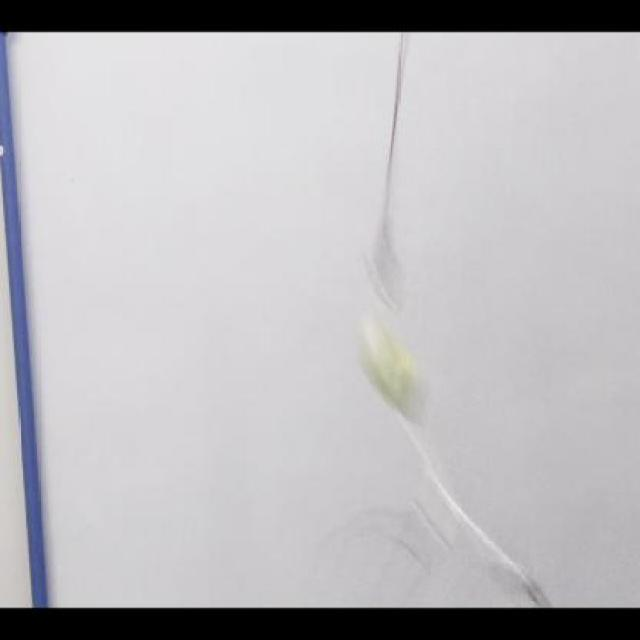baseball: (354, 302, 434, 420)
